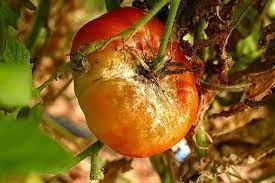tomato late blight: (70, 9, 203, 159)
